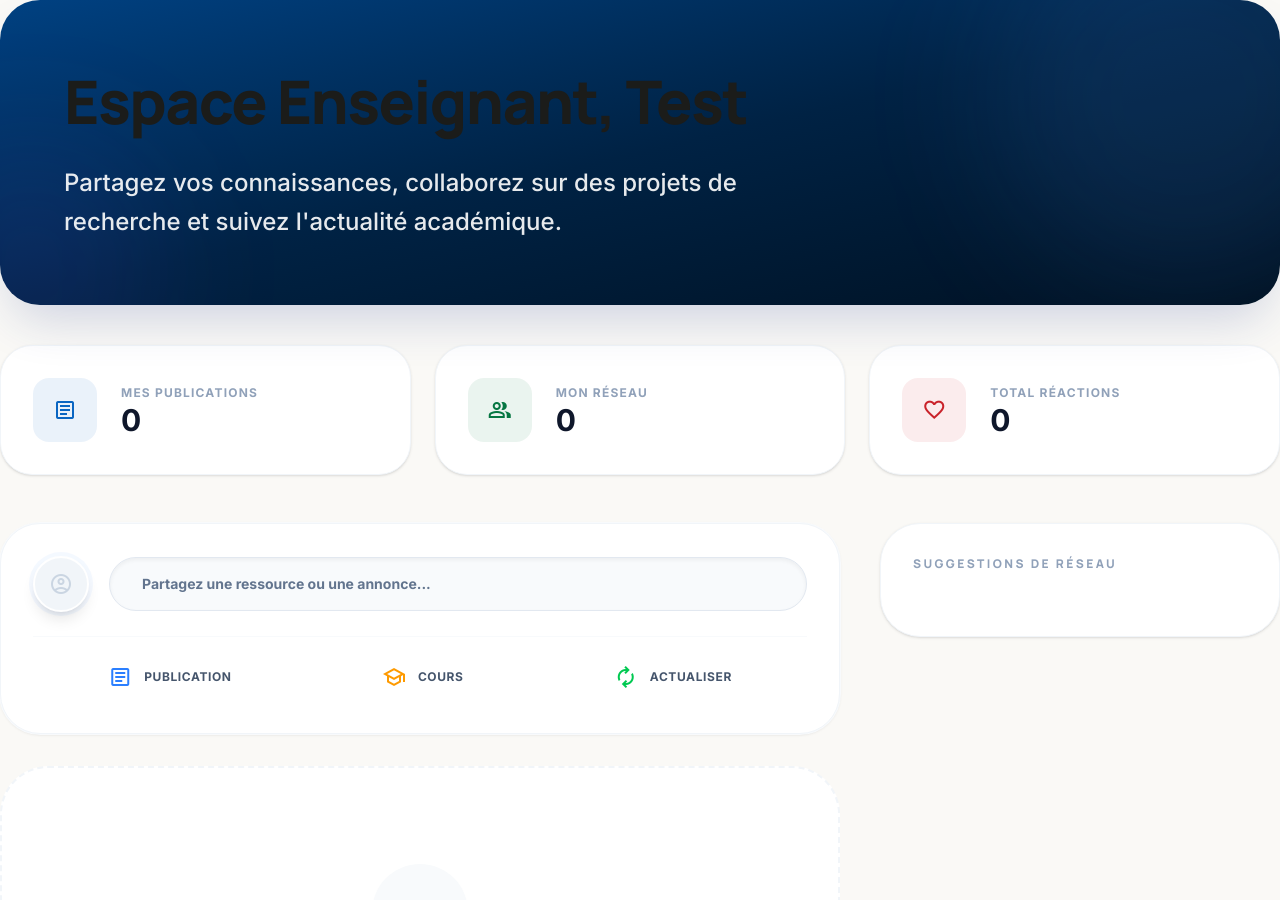
it: EnseignantDashboard › ouvre le modal de création de publication
Step 1. Click the button "Partagez une ressource ou une annonce..." → (286,584), box [109, 557, 807, 611]
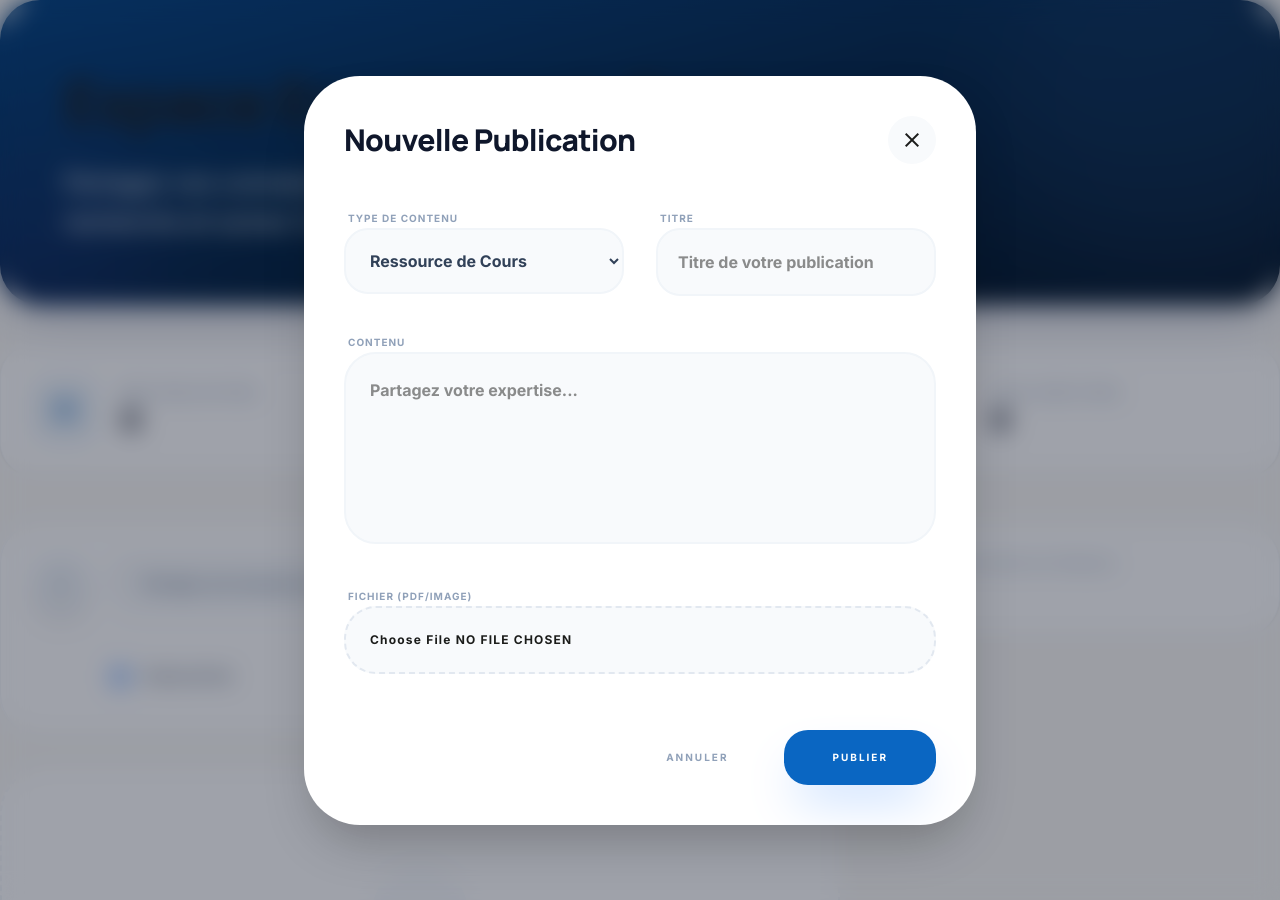
Expected: the heading "Nouvelle Publication" is shown, [344, 122, 635, 158]
